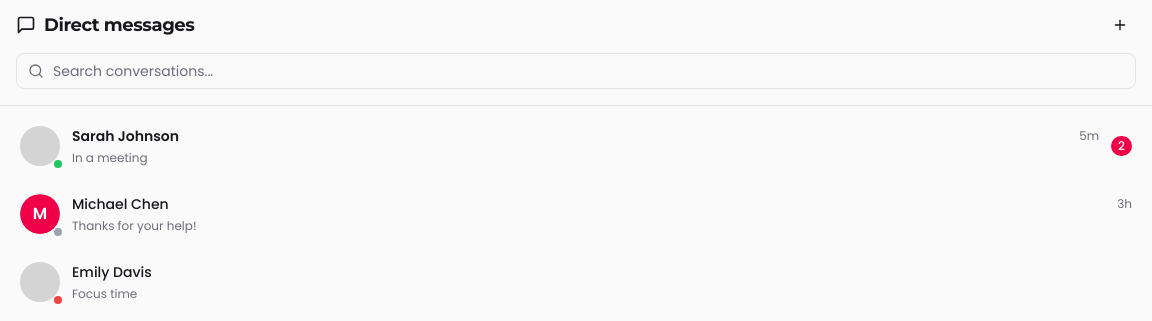
Test: DirectMessageList › Search Functionality › should show empty state when search has no results
In the field with placeholder "Search conversations...": (576, 71) [16,53,1136,89], type "NonExistentUser"
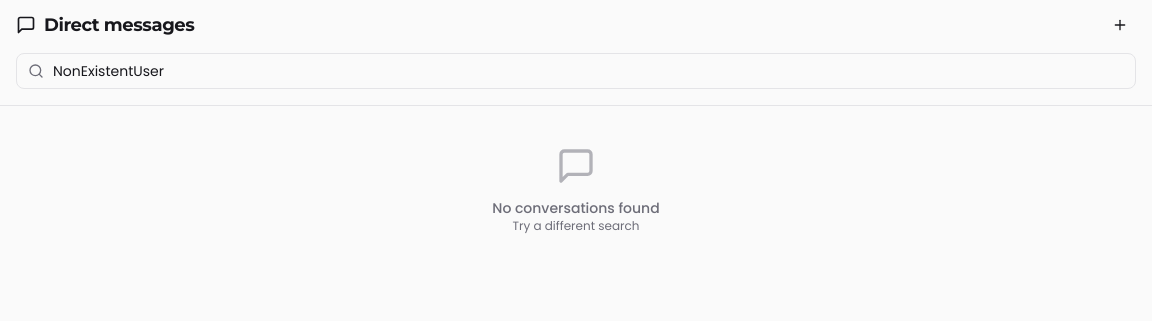
Check: the text "No conversations found" is shown, box [492,198,660,218]
Check: the text "Try a different search" is shown, box [512,217,640,234]
